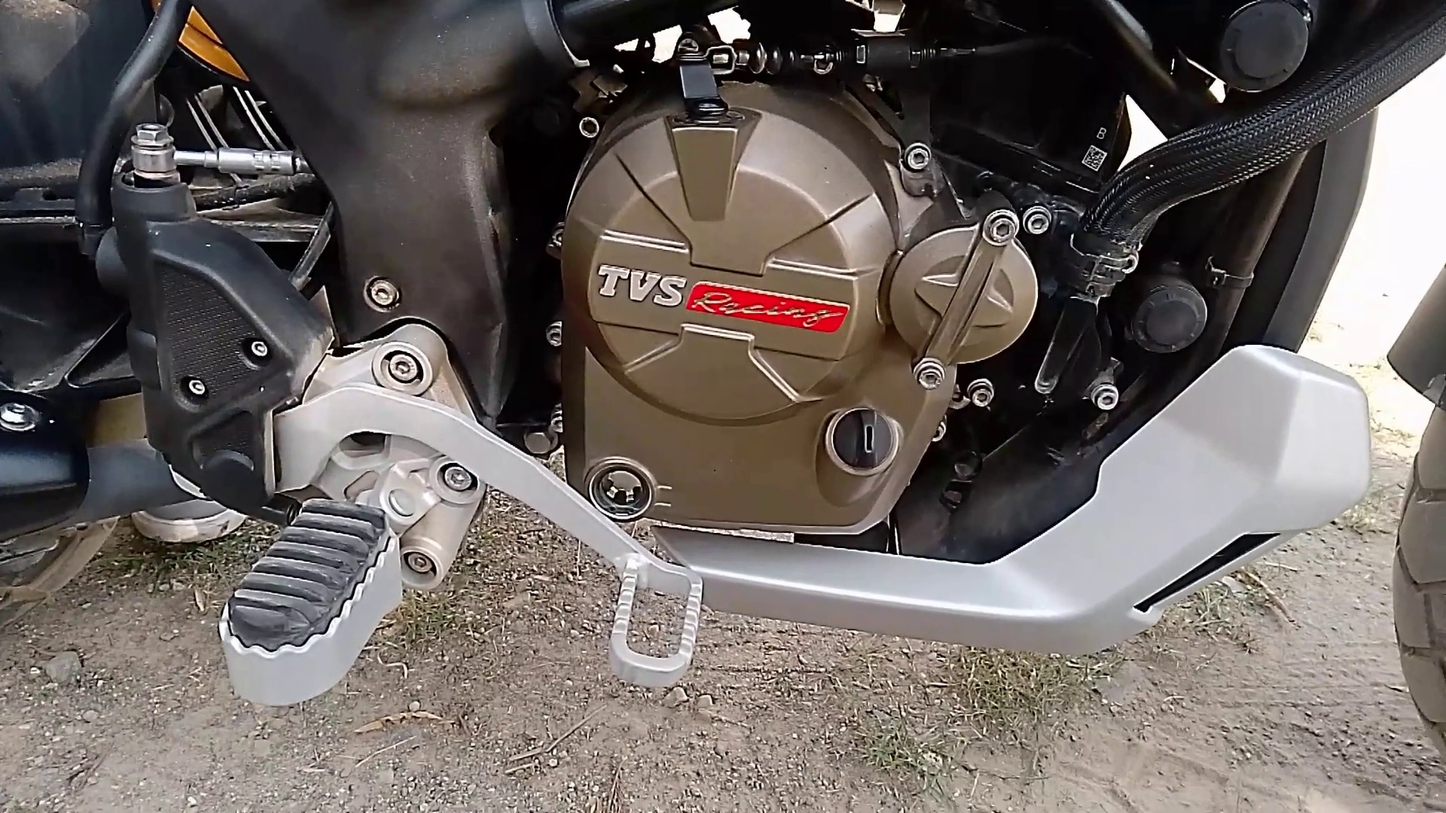bike-engine: (559, 83, 1048, 535)
bike-engine-level: (571, 447, 660, 533)
bike-oil-cap: (825, 395, 918, 484)
